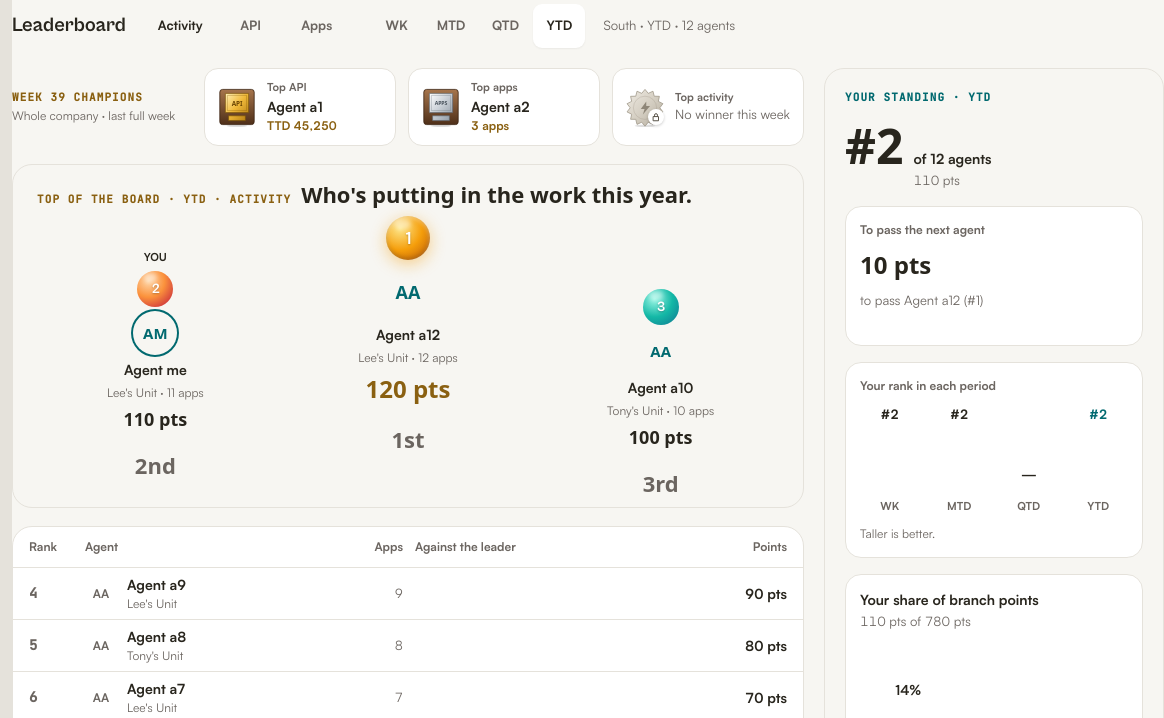
FR Leaderboard — read-time derivations (API board) › share is mine ÷ the DISPLAYED ranking, and hidden when that sum is 0
Click the radio button with test id "fr-leaderboard-board-api" at x=251, y=26, box [219,4,283,48]
(page scrolled)
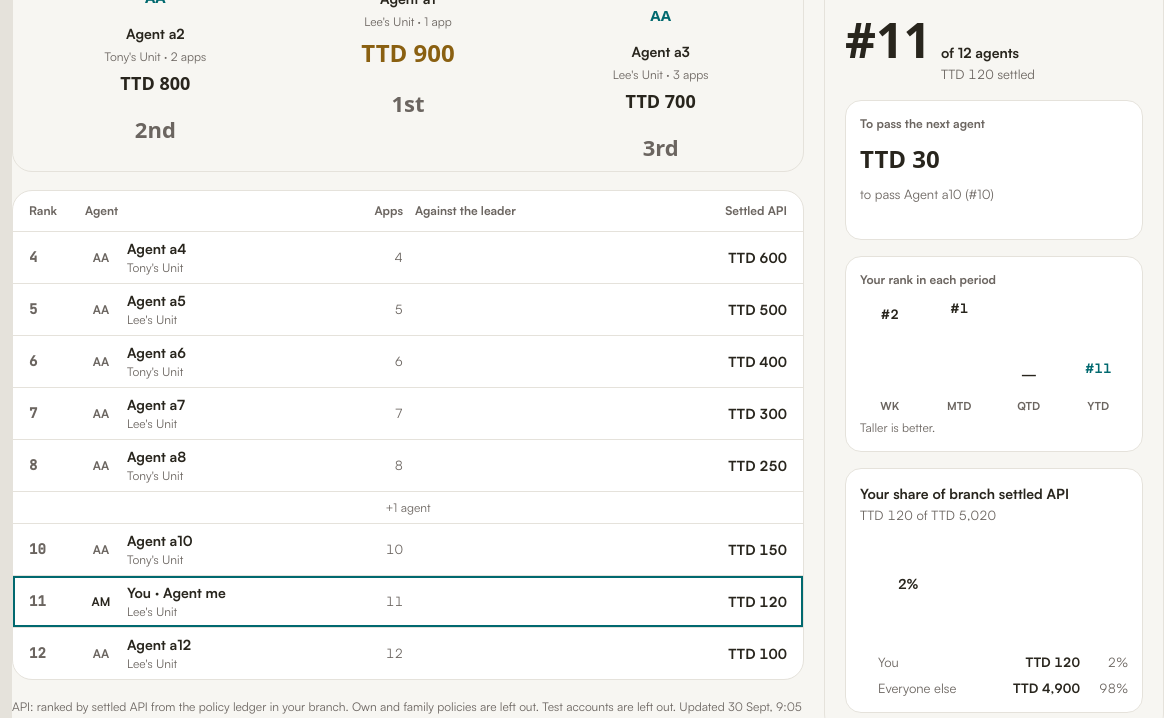
Expected: the element with test id "fr-leaderboard-share" shows "2%", [898,576,918,593]
Expected: the element with test id "fr-leaderboard-share" shows "Your share of branch settled API", [860,484,1069,502]
